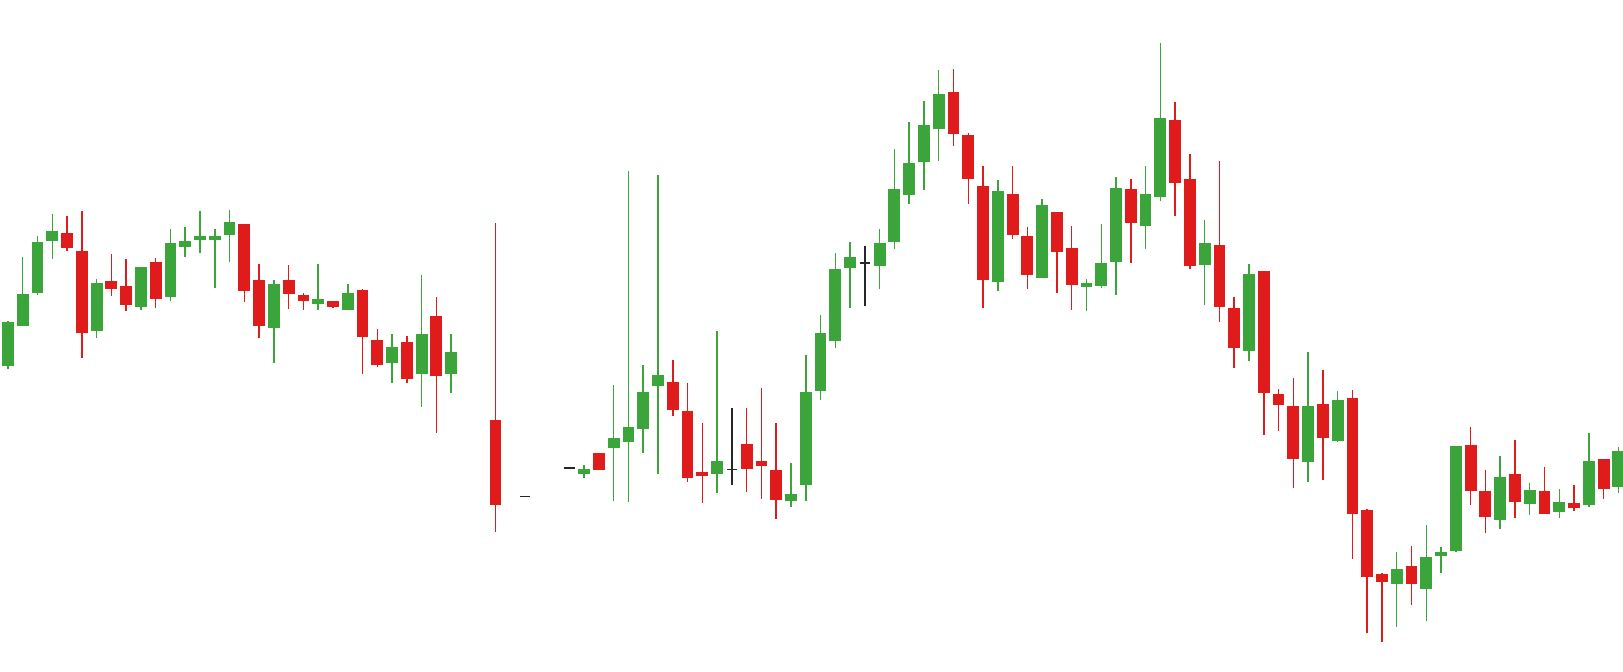sell: (933, 43, 1184, 224)
